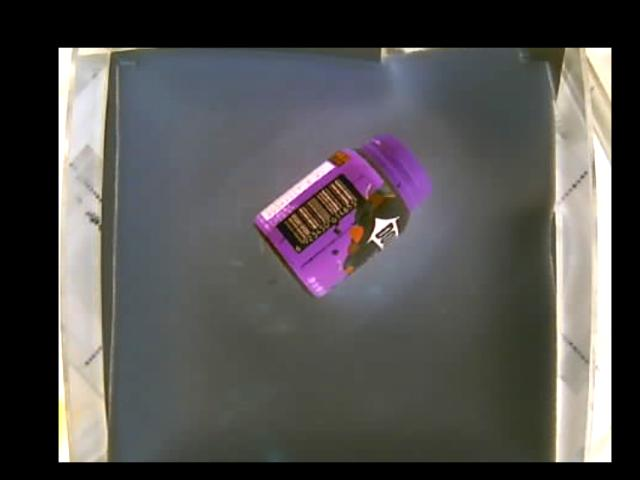Bottle: (253, 132, 431, 300)
